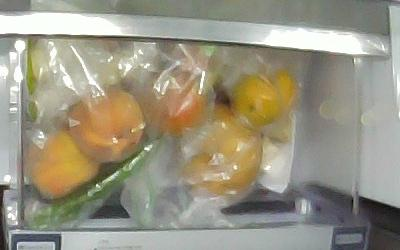peach_vinyl: (71, 88, 144, 162), (28, 130, 99, 197)
pear_vinyl: (182, 105, 260, 193)
tangerine_vinyl: (229, 74, 283, 126), (262, 66, 297, 114)
tomato_vinyl: (136, 70, 204, 135)
